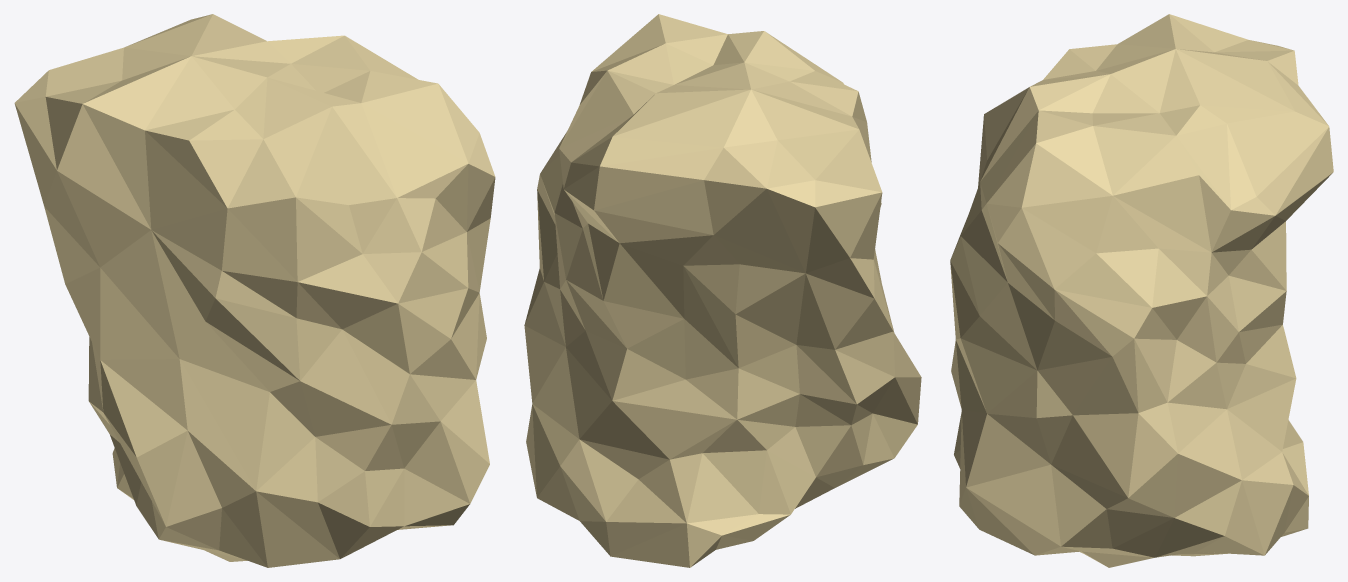
The model's file is Asteroid (75).fbx.
3 views of the same model, side by side, from view 1: azimuth 30°, elevation 25°; view 2: azimuth 150°, elevation 25°; view 3: azimuth 270°, elevation 25° (orthographic). The views are drawn at different scales.
Parts seen in each view (by area): view 1: Asteroid194; view 2: Asteroid194; view 3: Asteroid194.
Part boxes in pixels (x1,y1,x2,y2): Asteroid194: (14,14,495,567); Asteroid194: (524,14,921,567); Asteroid194: (950,14,1333,567).
Size of the model in its own units: 372 by 450 by 329.
